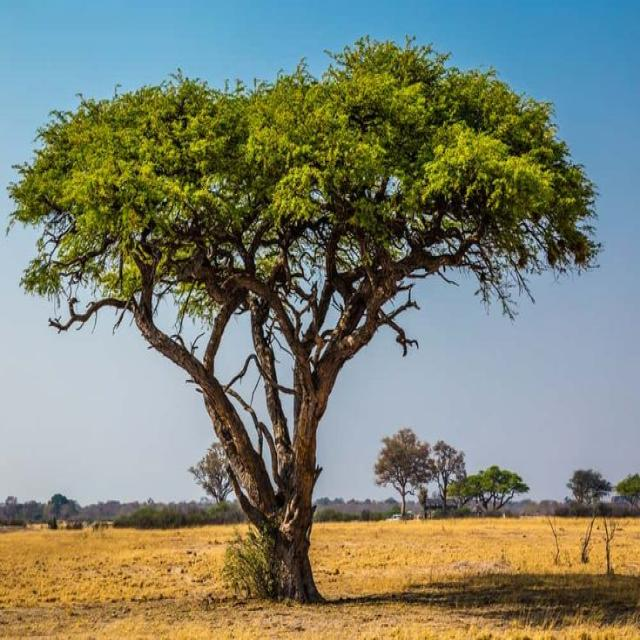Acacia: (39, 89, 594, 541)
